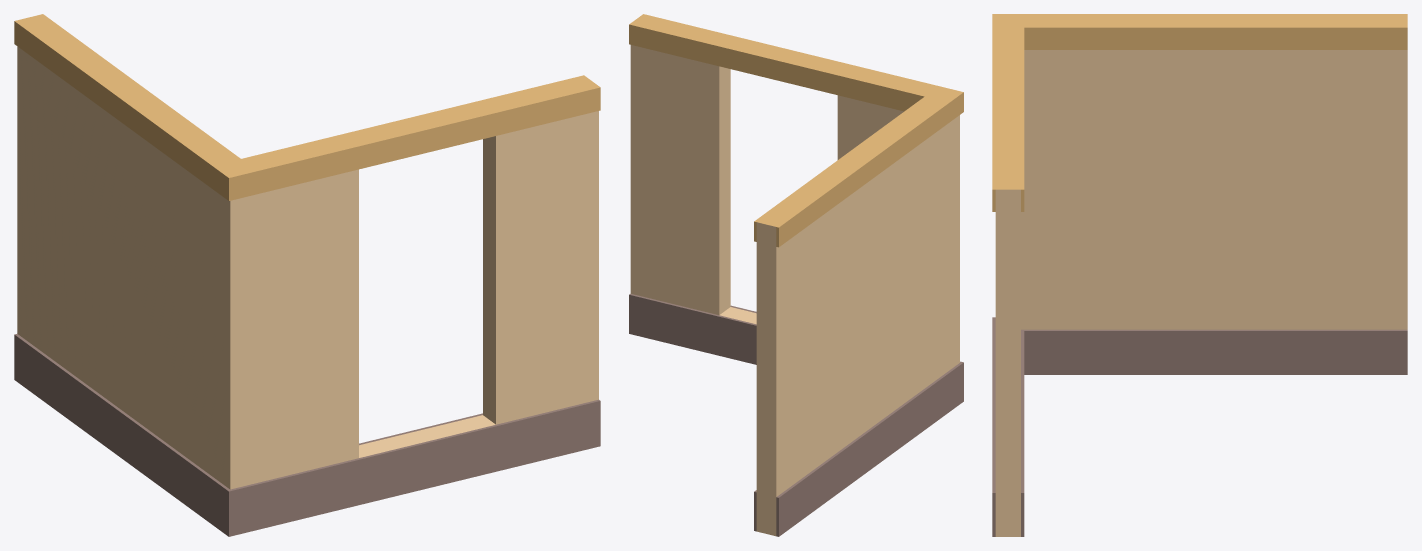
The model's file is Wall06-01.fbx.
3 views of the same model, side by side, from view 1: azimuth 30°, elevation 25°; view 2: azimuth 150°, elevation 25°; view 3: azimuth 270°, elevation 25° (orthographic). The views are drawn at different scales.
Parts seen in each view (by area): view 1: Wall06-01; view 2: Wall06-01; view 3: Wall06-01.
Boxes of the visible parts, bbox=[...] form: Wall06-01: bbox=[14, 14, 600, 536]; Wall06-01: bbox=[629, 14, 963, 536]; Wall06-01: bbox=[992, 14, 1407, 536].
Bounding box in the file's own units: 3.25 × 3.25 × 3.
